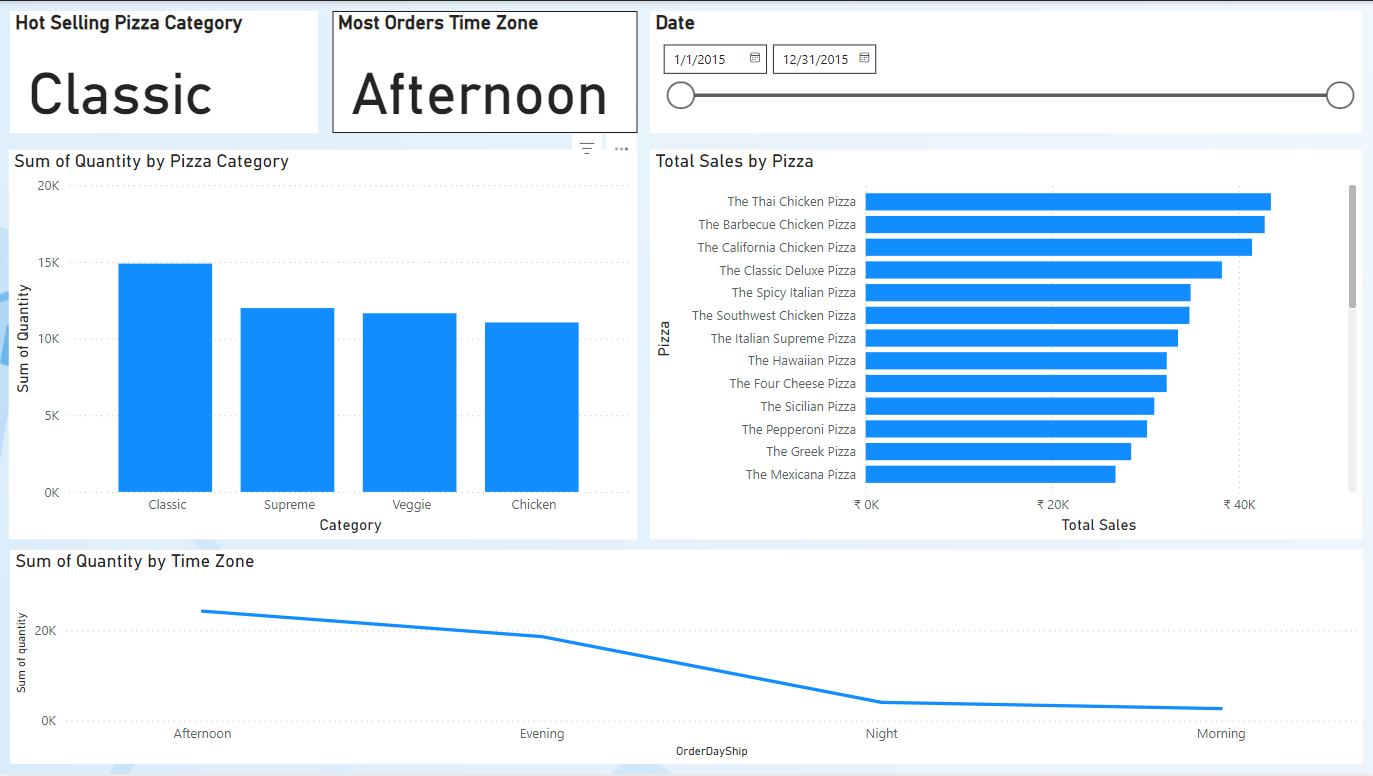

Layout of this report page (visuals, bound fields, positions):
{"tool":"powerbi","page":{"name":"Pizza","canvas":[1280,720],"ordinal":1},"visuals":[{"type":"cardVisual","title":"Hot Selling Pizza Category","fields":{"Data":["PizzaTypes.MostOrderedPizzaCategory"]},"box":[9.6,9.6,286.8,113.9],"z":0},{"type":"columnChart","title":"Sum of Quantity by Pizza Category","fields":{"Category":["PizzaTypes.category"],"Y":["Sum(OrderDetails.quantity)"]},"box":[8.2,138.6,584.6,362.3],"z":1000},{"type":"lineChart","title":"Sum of Quantity by Time Zone","fields":{"Category":["Orders.OrderDayShip"],"Y":["Sum(OrderDetails.quantity)"]},"box":[9.6,510.5,1258.3,199],"z":2000},{"type":"cardVisual","title":"Most Orders Time Zone","fields":{"Data":["Orders.most_ordered_ship"]},"box":[308.7,9.6,284,113.9],"z":3000},{"type":"clusteredBarChart","title":"Total Sales by Pizza","fields":{"Y":["OrderDetails.TotalSales"],"Category":["PizzaTypes.name"]},"box":[605.1,138.6,662.8,362.3],"z":4000},{"type":"slicer","title":"Date","fields":{"Values":["Orders.date"]},"box":[605.1,9.6,662.8,113.9],"z":5000}]}

Visuals, with their boxes in screenshot pixels (x1, y1, x2, y2), scaled from the page's 1280x720 canvas onto the 1373x776 screenshot:
"Hot Selling Pizza Category" cardVisual: <region>10, 10, 318, 133</region>
"Sum of Quantity by Pizza Category" columnChart: <region>9, 149, 636, 540</region>
"Sum of Quantity by Time Zone" lineChart: <region>10, 550, 1360, 765</region>
"Most Orders Time Zone" cardVisual: <region>331, 10, 636, 133</region>
"Total Sales by Pizza" clusteredBarChart: <region>649, 149, 1360, 540</region>
"Date" slicer: <region>649, 10, 1360, 133</region>
